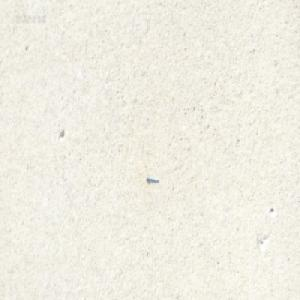Nail: (145, 173, 158, 182)
